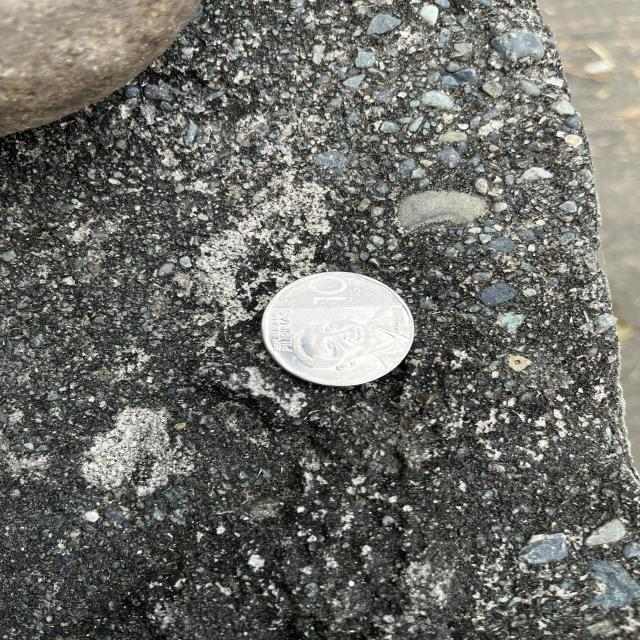10_New_Front: (295, 276, 361, 314)
